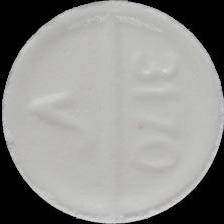55289-118: (0, 0, 224, 224)
